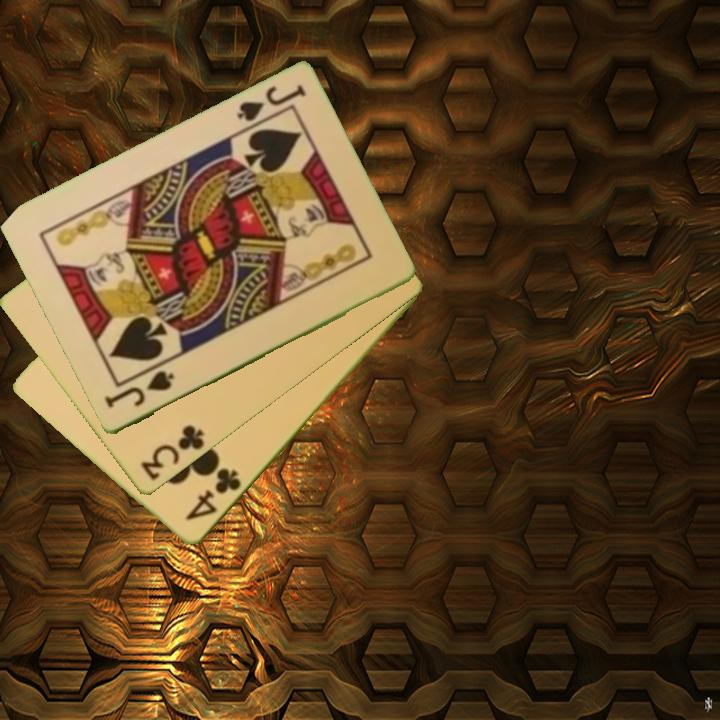3c: (136, 422, 208, 484)
4c: (182, 465, 244, 524)
Js: (233, 81, 309, 126), (102, 367, 177, 412)
